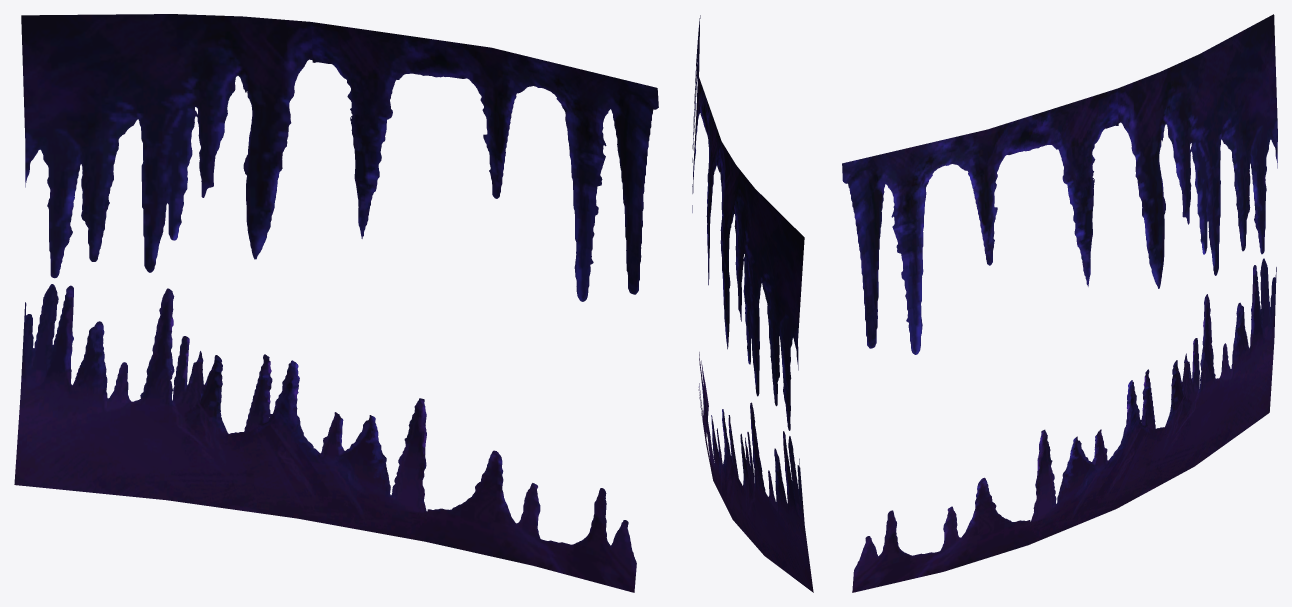
Rendered from SWORDLIGHT20_PS-AREA05-RANGE01_00.fbx.
3 views of the same model, side by side, from view 1: azimuth 30°, elevation 25°; view 2: azimuth 150°, elevation 25°; view 3: azimuth 270°, elevation 25° (orthographic). The views are drawn at different scales.
Visible parts, largest first — view 1: SWORDLIGHT20_PS-AREA05-RANGE01_00; view 2: SWORDLIGHT20_PS-AREA05-RANGE01_00; view 3: SWORDLIGHT20_PS-AREA05-RANGE01_00.
Boxes of the visible parts, x1,y1,x2,y2 form: SWORDLIGHT20_PS-AREA05-RANGE01_00: [14, 14, 658, 592]; SWORDLIGHT20_PS-AREA05-RANGE01_00: [692, 15, 813, 592]; SWORDLIGHT20_PS-AREA05-RANGE01_00: [842, 14, 1277, 592].
Size of the model in its own units: 178448 by 213175 by 192767.
5 materials, 5 textured.
